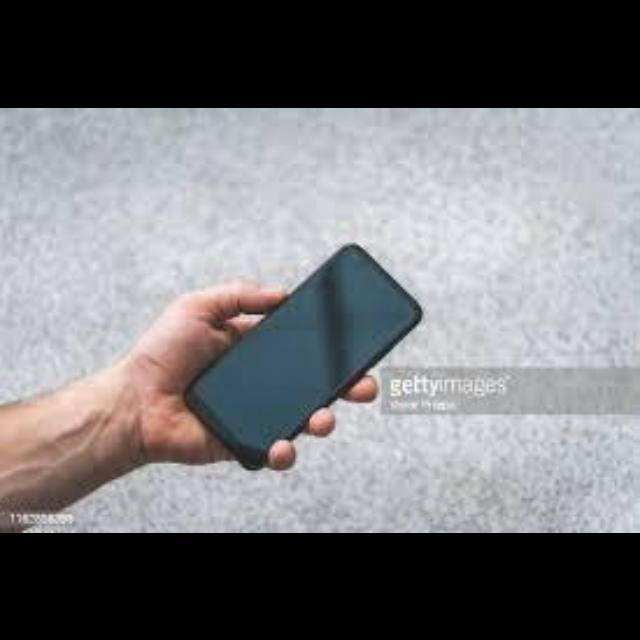Phone: (186, 241, 424, 471)
